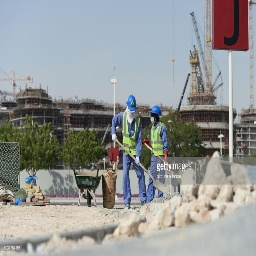helmet: (126, 96, 137, 111), (153, 107, 162, 115)
person: (120, 93, 148, 206), (149, 106, 170, 184)
vest: (122, 113, 138, 157), (151, 122, 164, 156)
